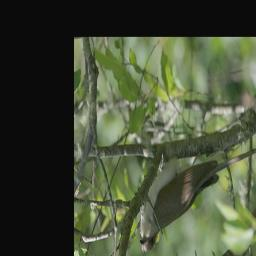Cuckoo: (139, 143, 256, 254)
